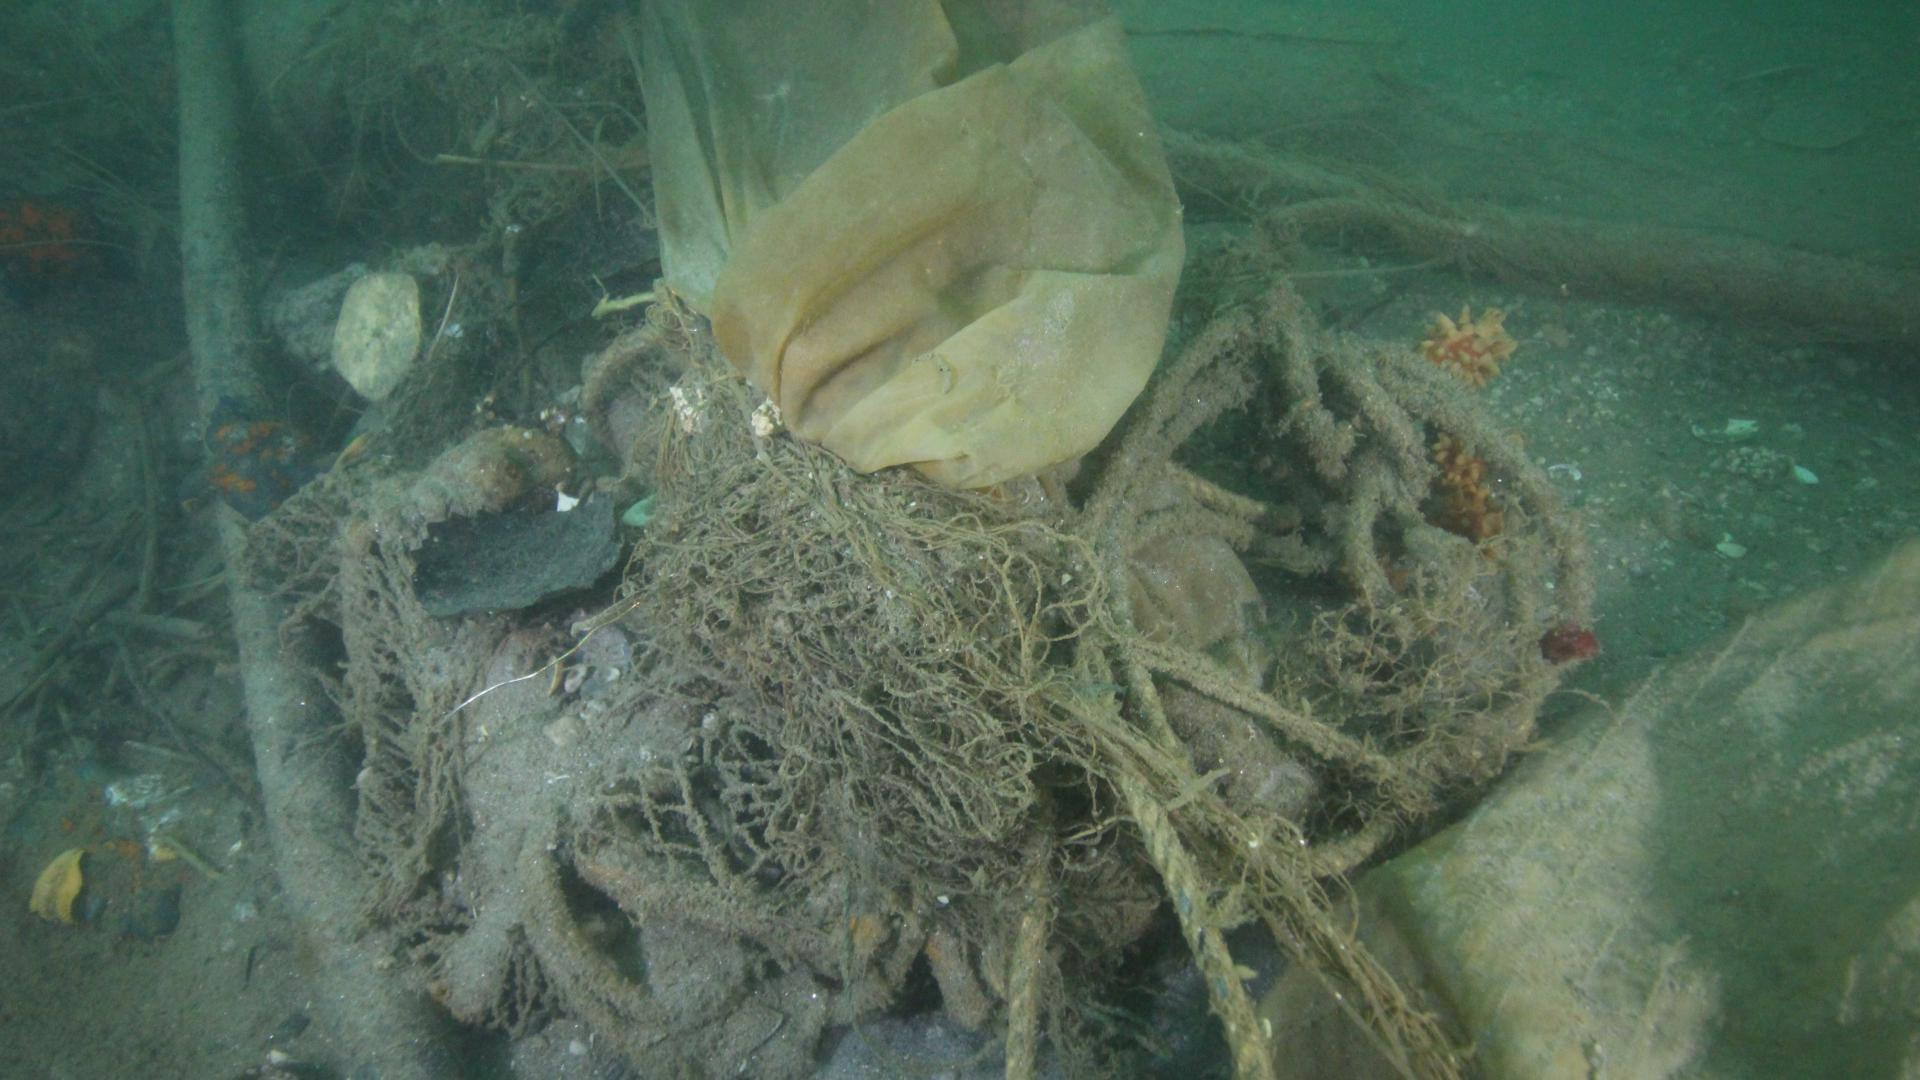bundle of ropes: (1004, 278, 1596, 1080)
